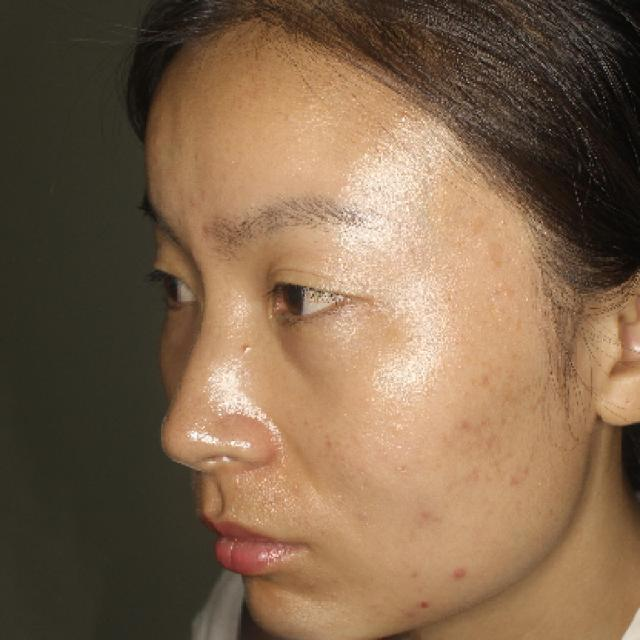Blackheads: (412, 591, 438, 614)
Whiteheads: (234, 335, 257, 357)
